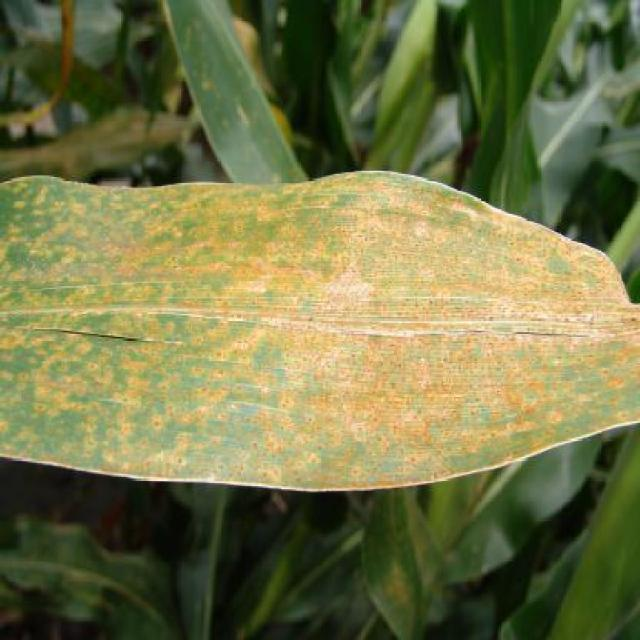Corn_Rust: (0, 162, 640, 504)
